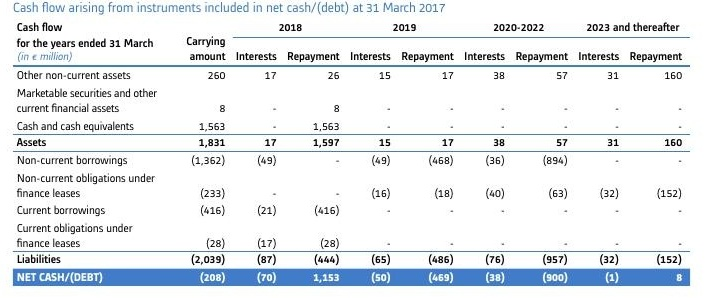table: (0, 0, 706, 298)
